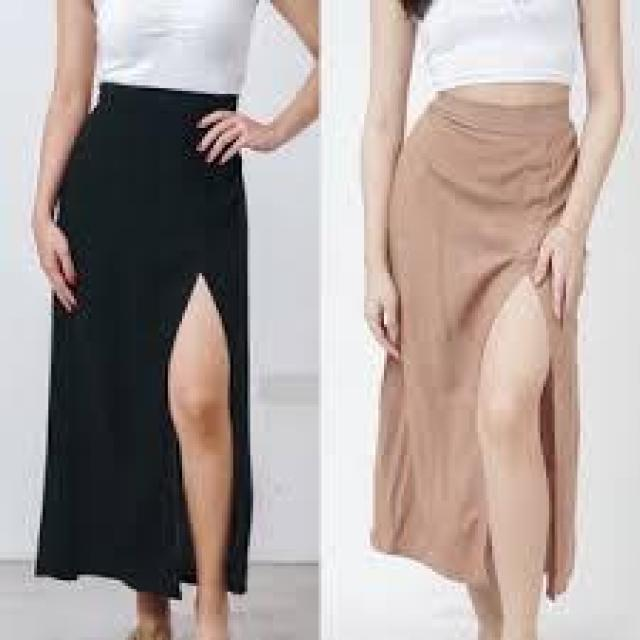skirt: (56, 80, 258, 594), (380, 103, 590, 592)
